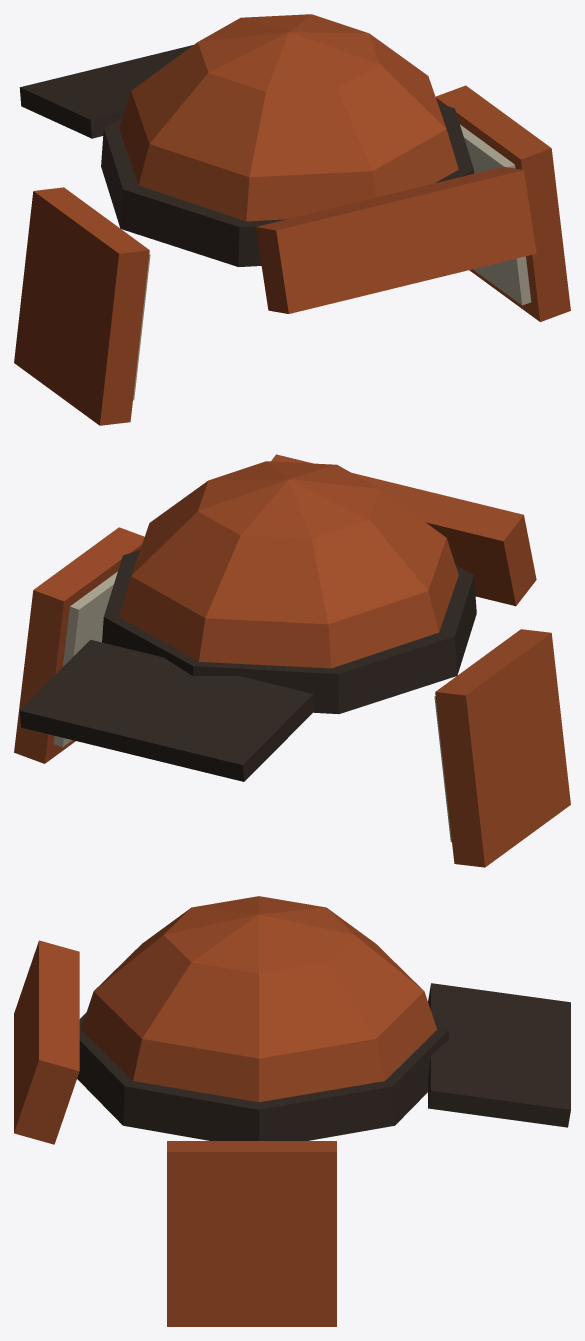
The model's file is hat_tracker.glb.
The picture shows the model from 3 angles, top to bottom: view 1: azimuth 30°, elevation 25°; view 2: azimuth 150°, elevation 25°; view 3: azimuth 270°, elevation 25°; orthographic projection.
Parts seen in each view (by area): view 1: Hat; view 2: Hat; view 3: Hat.
Part boxes in pixels (x1=…): Hat: x1=14, y1=14, x2=570, y2=425; Hat: x1=14, y1=454, x2=570, y2=867; Hat: x1=14, y1=896, x2=570, y2=1326.
Bounding box in the file's own units: 0.3804 × 0.236 × 0.3937.
